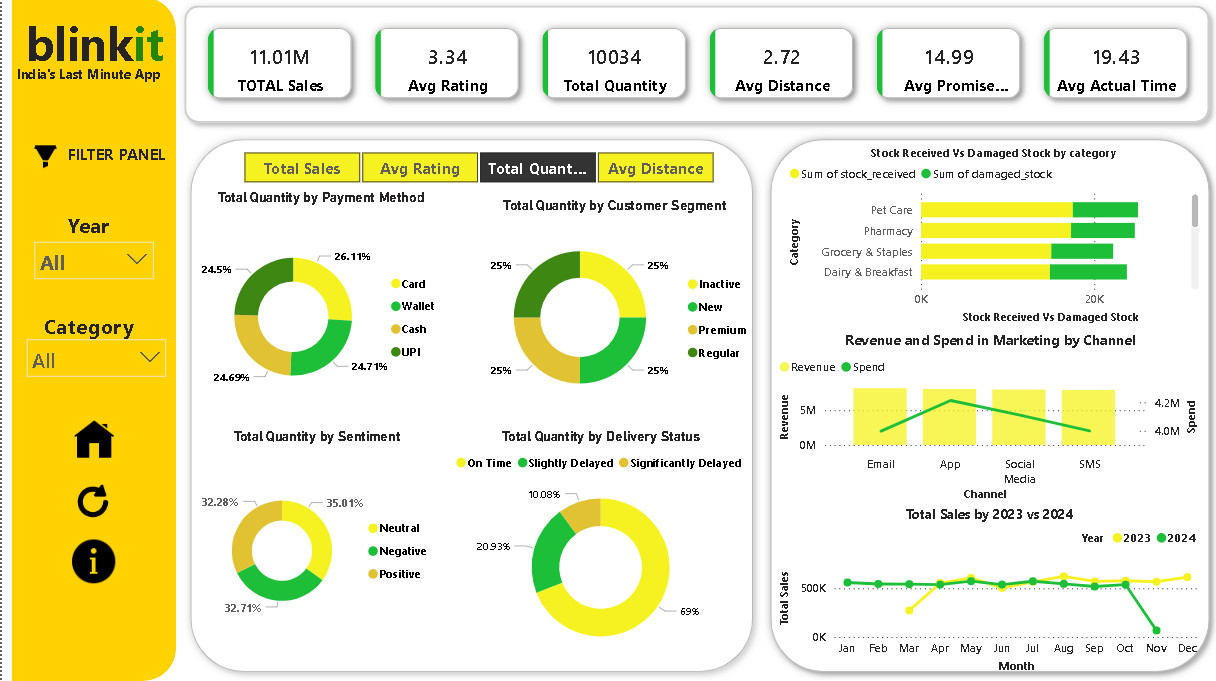

This screenshot's page, from the dashboard's own definition file:
{"tool":"powerbi","page":{"name":"Page 3","canvas":[1280,720],"ordinal":0},"visuals":[{"type":"shape","box":[10,0,172.9,720],"z":0},{"type":"textbox","box":[20,10,172.9,98.6],"z":1},{"type":"textbox","box":[10,67.1,172.9,57.1],"z":2},{"type":"shape","box":[182.9,0,1097.1,141.4],"z":3},{"type":"cardVisual","fields":{"Data":["final.TOTAL","blinkit_customer_feedback.Avg Rating","blinkit_order_items.quant","final.distance","final.promise","final.actual"]},"box":[200,15.7,1065.7,108.6],"z":4},{"type":"shape","box":[190,141.4,610,578.6],"z":5},{"type":"donutChart","fields":{"Y":["blinkit_order_items.Total Quantity"],"Category":["blinkit_customer_feedback.sentiment"]},"box":[200,454.3,262.9,241.4],"z":6},{"type":"slicer","fields":{"Values":["Metrices.Metrices"]},"box":[228.6,157.1,544.3,45.7],"z":7},{"type":"donutChart","fields":{"Y":["blinkit_order_items.Total Quantity"],"Category":["blinkit_orders.payment_method"]},"box":[200,202.9,271.4,251.4],"z":8},{"type":"donutChart","fields":{"Y":["blinkit_order_items.Total Quantity"],"Category":["final.customer_segment"]},"box":[491.4,210,308.6,237.1],"z":9},{"type":"donutChart","fields":{"Y":["blinkit_order_items.Total Quantity"],"Category":["blinkit_orders.delivery_status"]},"box":[471.4,454.3,318.6,248.6],"z":10},{"type":"shape","box":[800,141.4,480,578.6],"z":11},{"type":"lineChart","title":"Total Sales by 2023  vs 2024","fields":{"Series":["final.Year"],"Y":["final.Total Sales"],"Category":["final.MonthName"]},"box":[812.9,535.7,452.9,181.4],"z":12},{"type":"lineStackedColumnComboChart","title":"Revenue and Spend in Marketing by Channel","fields":{"Category":["blinkit_marketing_performance.channel"],"Y":["Sum(blinkit_marketing_performance.revenue_generated)"],"Y2":["Sum(blinkit_marketing_performance.spend)"]},"box":[812.9,350,454.3,185.7],"z":13},{"type":"barChart","title":"Stock Received Vs Damaged Stock by category","fields":{"Category":["blinkit_products.category"],"Y":["Sum(blinkit_inventory.stock_received)","Sum(blinkit_inventory.damaged_stock)"]},"box":[824.3,155.7,441.4,194.3],"z":14},{"type":"image","box":[70.6,439.2,51.8,53.3],"z":15},{"type":"image","box":[64.8,564.5,63.4,59],"z":16},{"type":"image","box":[64.8,502.6,61.9,57.6],"z":18},{"type":"image","box":[24.5,148.3,41.8,38.9],"z":19},{"type":"textbox","box":[64.3,148.6,135.7,54.3],"z":20},{"type":"slicer","fields":{"Values":["final.Year"]},"box":[24.3,247.1,145.7,78.6],"z":21},{"type":"slicer","fields":{"Values":["blinkit_products.category"]},"box":[15.7,350,167.1,64.3],"z":22},{"type":"textbox","box":[34.3,325.7,114.3,44.3],"z":23},{"type":"textbox","box":[64.3,220,68.6,45.7],"z":24}]}

Visuals, with their boxes in screenshot pixels (x1, y1, x2, y2), scaled from the page's 1280x720 canvas onto the 1216x681 screenshot:
shape: [x1=10, y1=0, x2=174, y2=680]
textbox: [x1=19, y1=9, x2=183, y2=103]
textbox: [x1=10, y1=63, x2=174, y2=117]
shape: [x1=174, y1=0, x2=1215, y2=134]
cardVisual - final.TOTAL x blinkit_customer_feedback.Avg Rating: [x1=190, y1=15, x2=1202, y2=118]
shape: [x1=180, y1=134, x2=760, y2=680]
donutChart - blinkit_order_items.Total Quantity x blinkit_customer_feedback.sentiment: [x1=190, y1=430, x2=440, y2=658]
slicer - Metrices.Metrices: [x1=217, y1=149, x2=734, y2=192]
donutChart - blinkit_order_items.Total Quantity x blinkit_orders.payment_method: [x1=190, y1=192, x2=448, y2=430]
donutChart - blinkit_order_items.Total Quantity x final.customer_segment: [x1=467, y1=199, x2=760, y2=423]
donutChart - blinkit_order_items.Total Quantity x blinkit_orders.delivery_status: [x1=448, y1=430, x2=750, y2=665]
shape: [x1=760, y1=134, x2=1215, y2=680]
"Total Sales by 2023  vs 2024" lineChart: [x1=772, y1=507, x2=1203, y2=678]
"Revenue and Spend in Marketing by Channel" lineStackedColumnComboChart: [x1=772, y1=331, x2=1204, y2=507]
"Stock Received Vs Damaged Stock by category" barChart: [x1=783, y1=147, x2=1202, y2=331]
image: [x1=67, y1=415, x2=116, y2=466]
image: [x1=62, y1=534, x2=122, y2=590]
image: [x1=62, y1=475, x2=120, y2=530]
image: [x1=23, y1=140, x2=63, y2=177]
textbox: [x1=61, y1=141, x2=190, y2=192]
slicer - final.Year: [x1=23, y1=234, x2=162, y2=308]
slicer - blinkit_products.category: [x1=15, y1=331, x2=174, y2=392]
textbox: [x1=33, y1=308, x2=141, y2=350]
textbox: [x1=61, y1=208, x2=126, y2=251]
